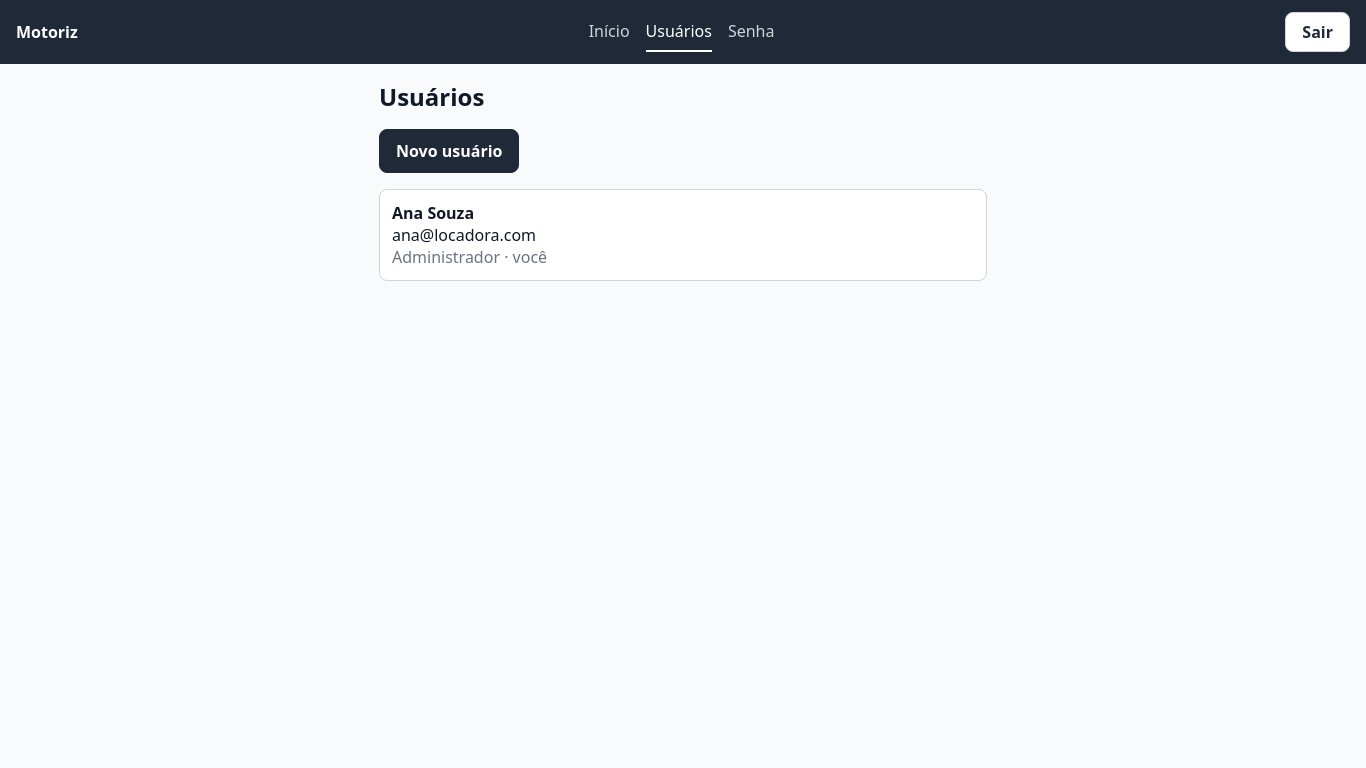
Test: Usuarios › admin vê a lista e cria um usuário
Expected: the text "ana@locadora.com" is shown, [392, 224, 547, 246]
Click the button "Novo usuário": coordinates (449, 151) [379, 129, 520, 173]
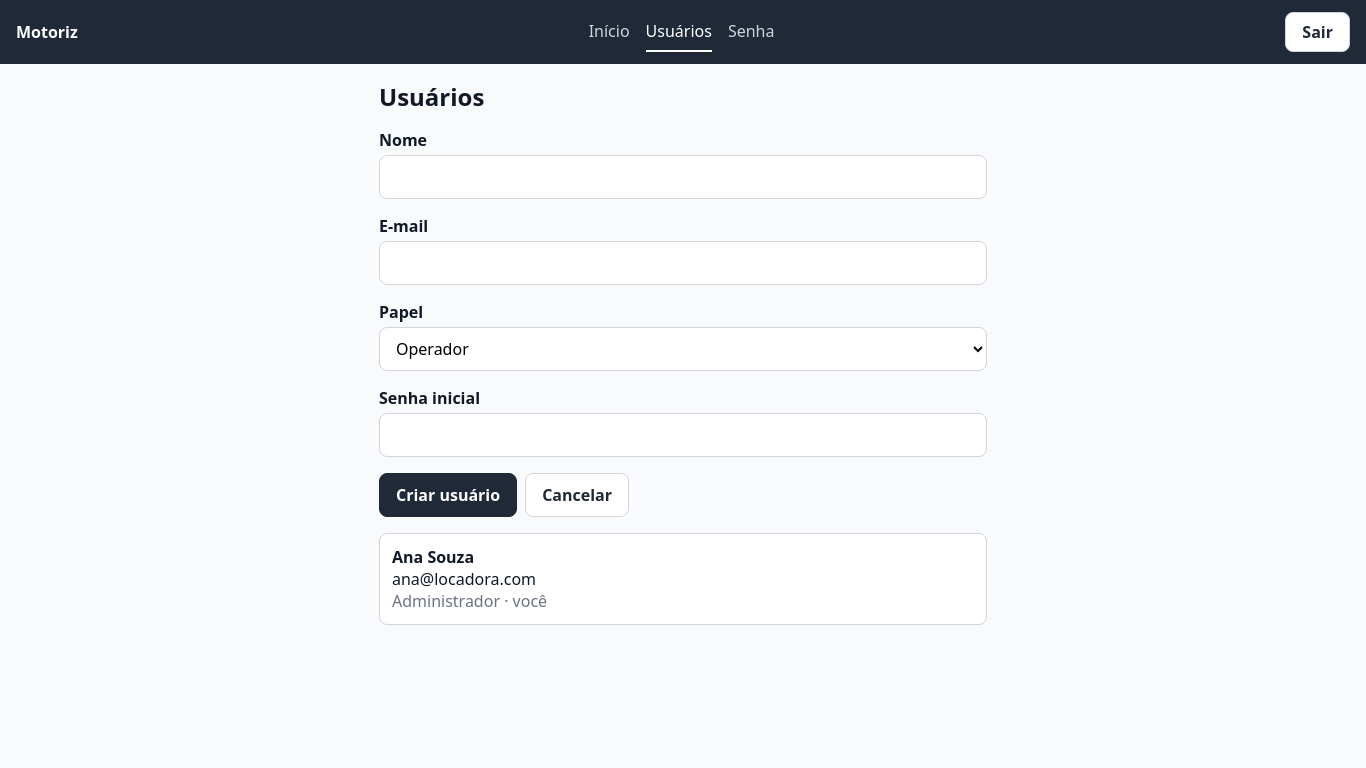
In the field labelled "Nome": coordinates (683, 177) [379, 155, 987, 199], type "Beto Lima"
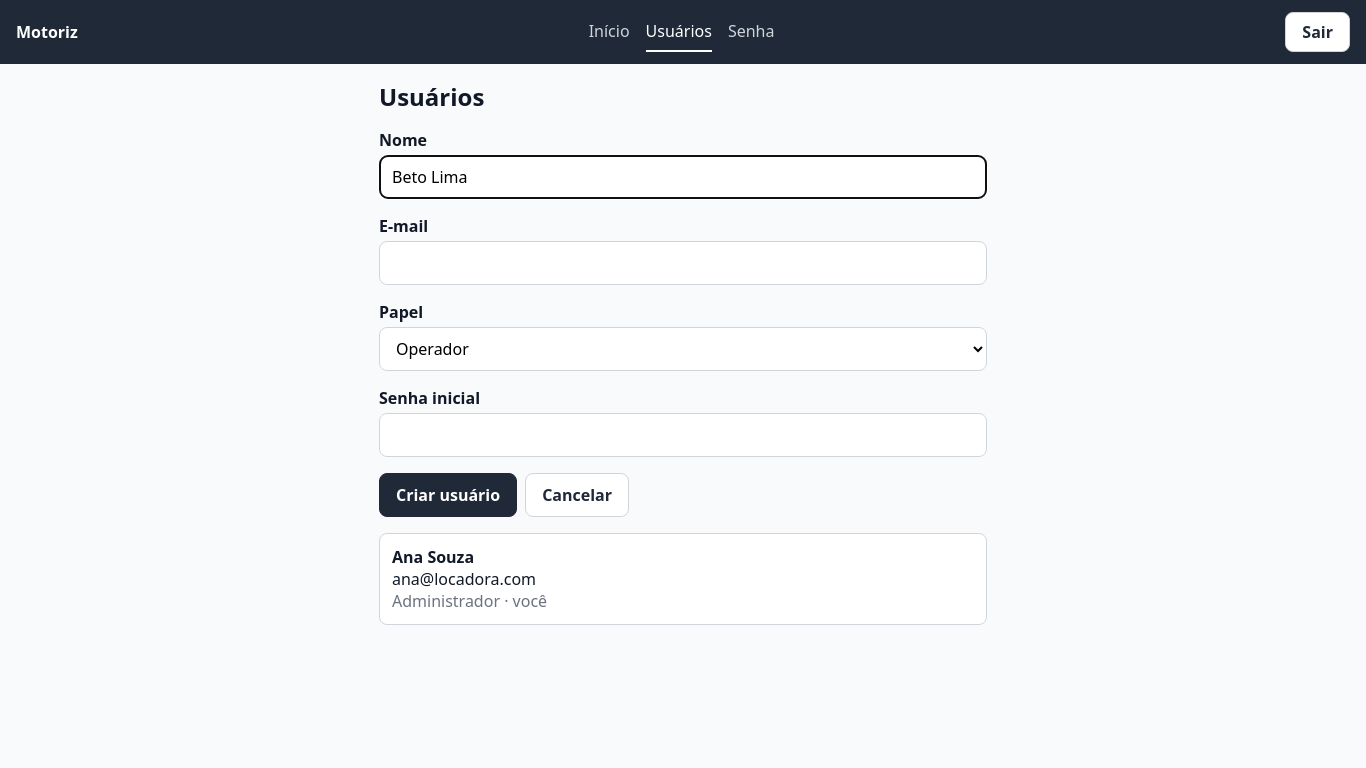
In the field labelled "E-mail": coordinates (683, 263) [379, 241, 987, 285], type "beto@locadora.com"
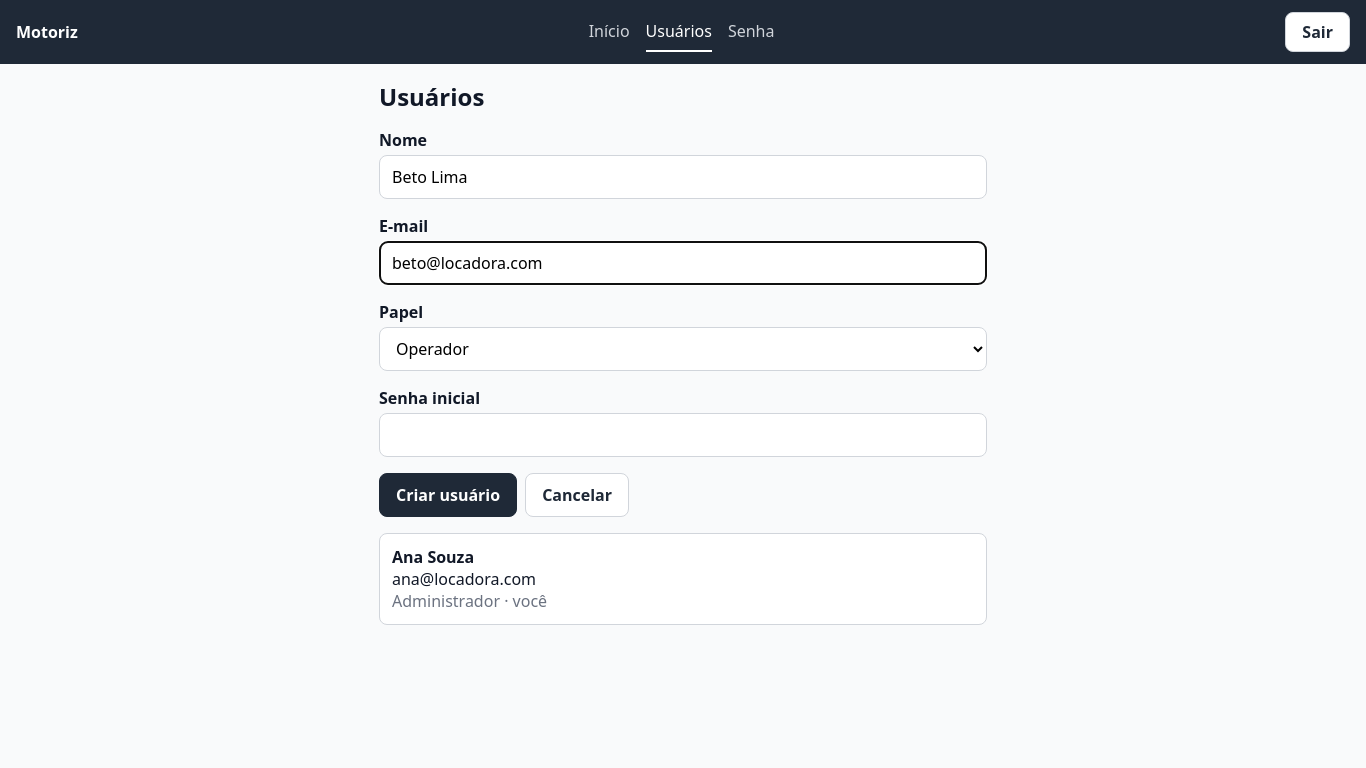
Select "Operador" in the dropdown labelled "Papel": coordinates (683, 349) [379, 327, 987, 371]
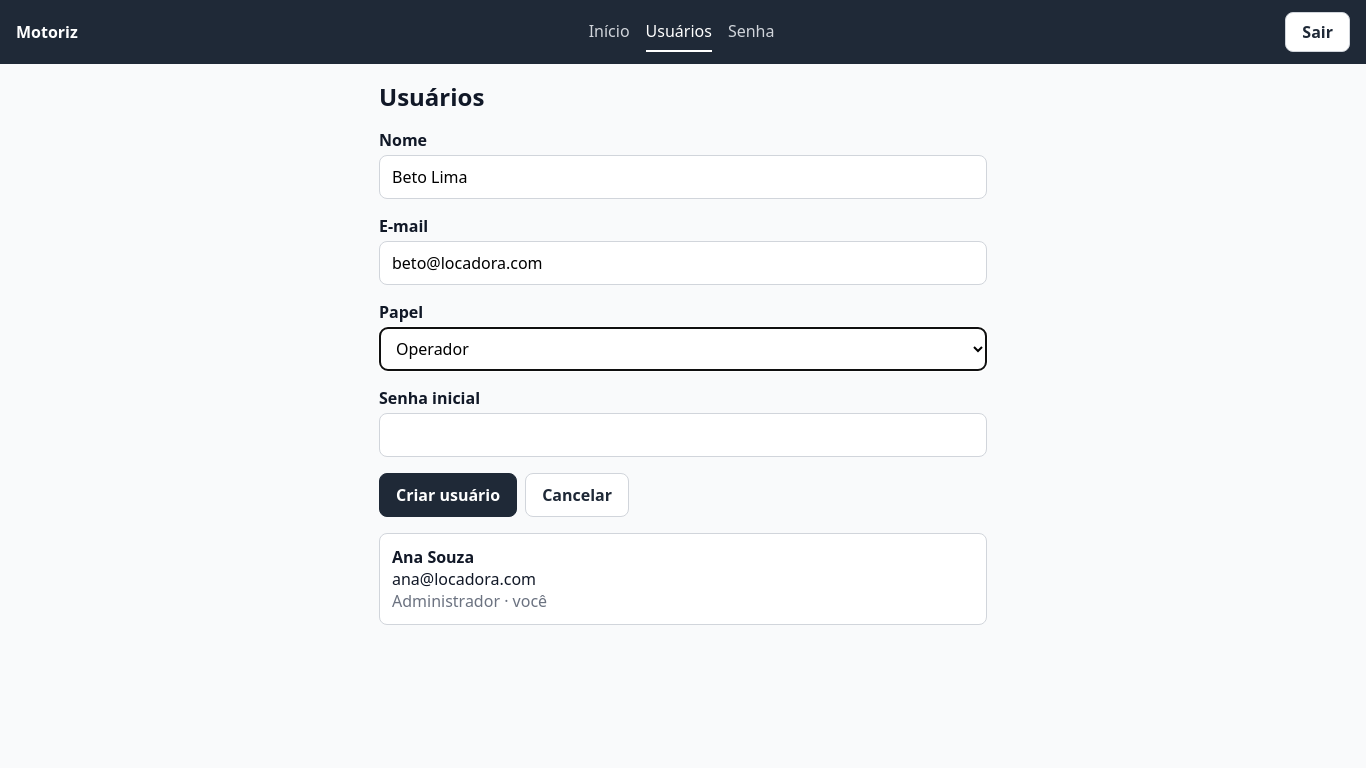
In the password field labelled "Senha inicial": coordinates (683, 435) [379, 413, 987, 457], type "senha-inicial-1"
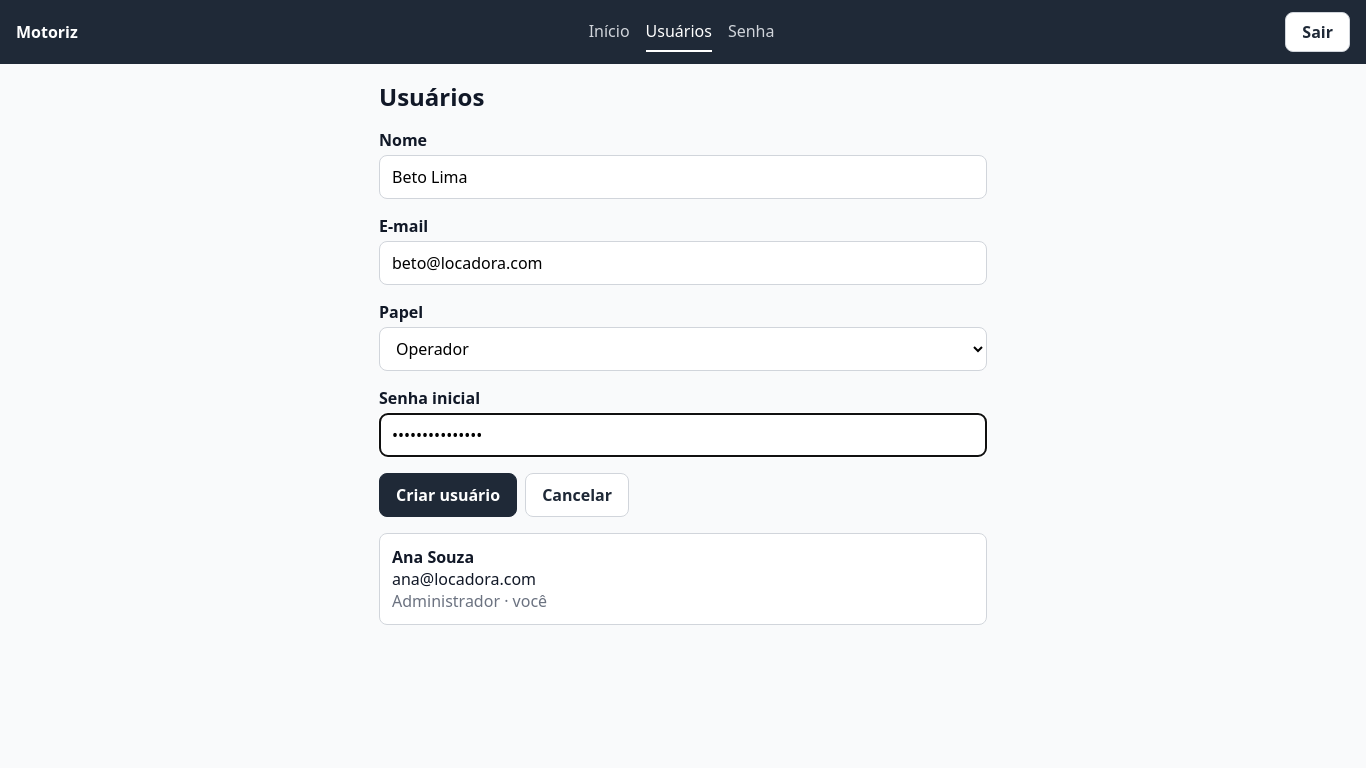
Click the button "Criar usuário": coordinates (448, 495) [379, 473, 517, 517]
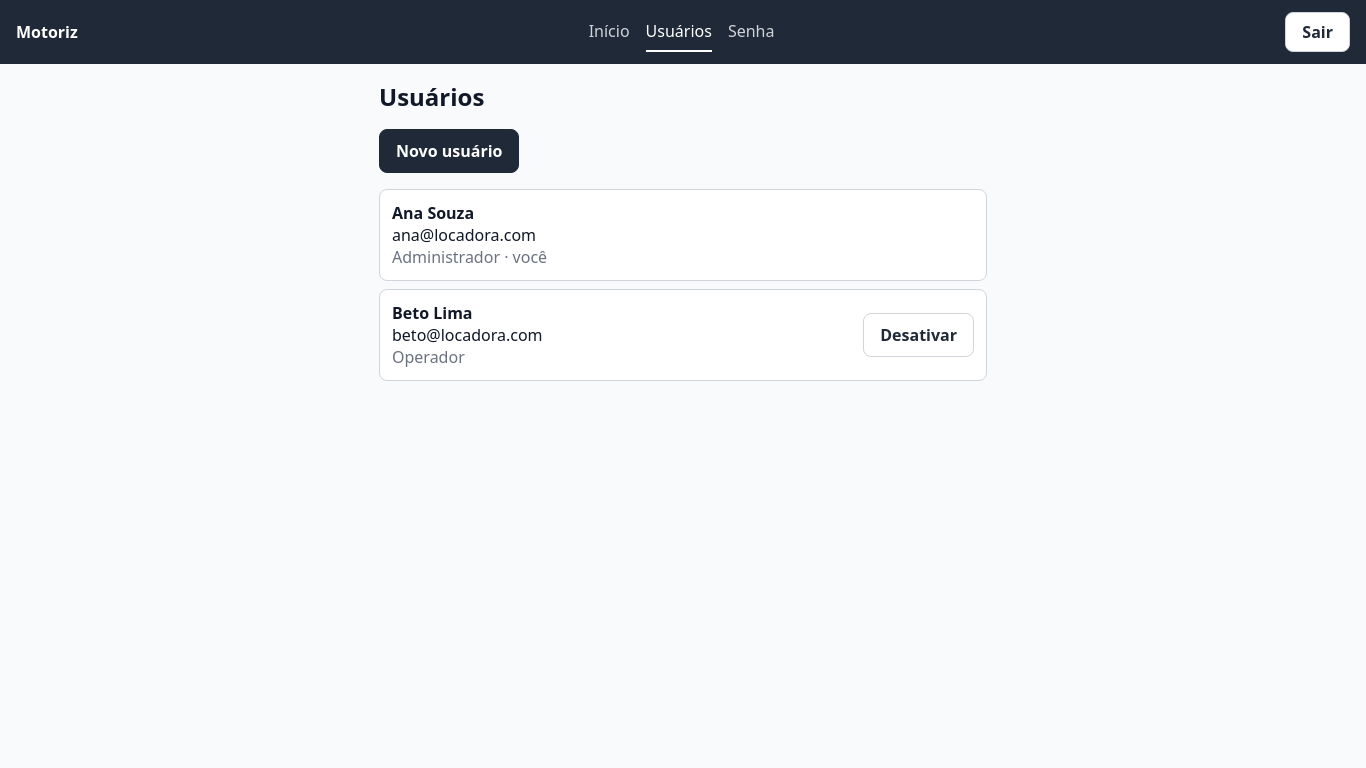
Result: the text "beto@locadora.com" is shown at [392, 324, 543, 346]
